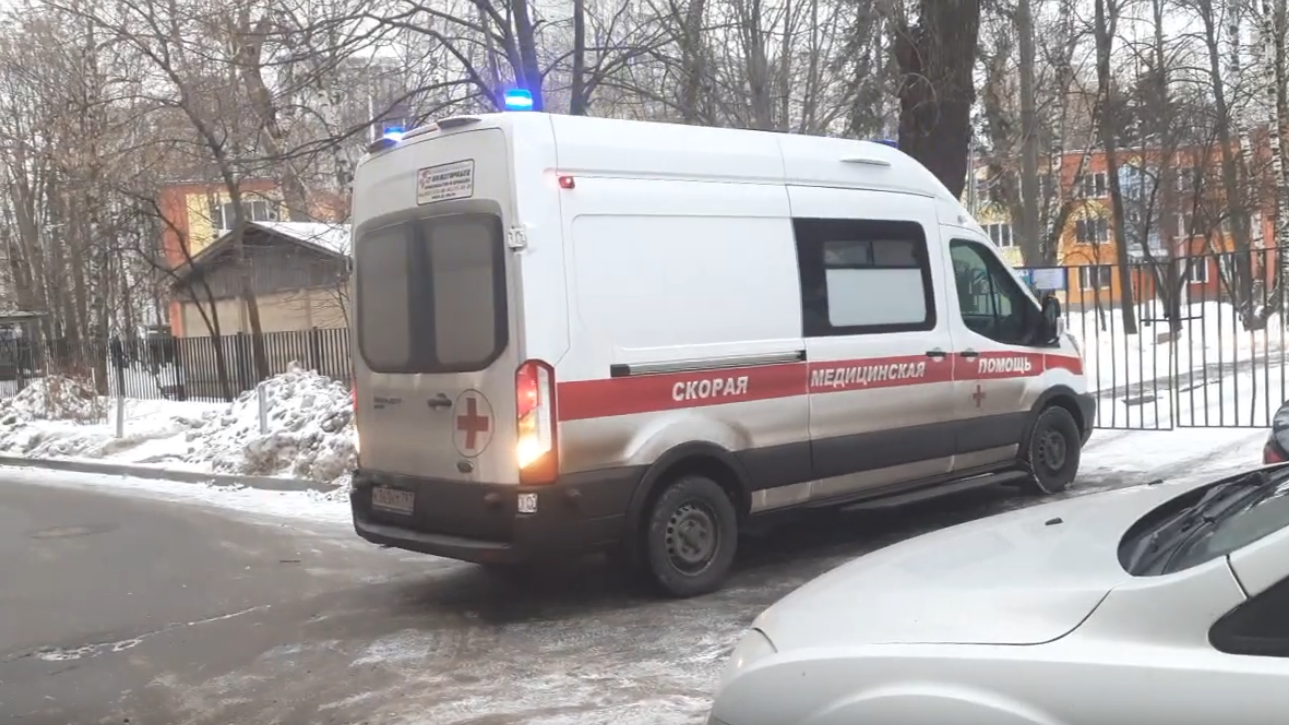ambulance: (347, 90, 1094, 598)
